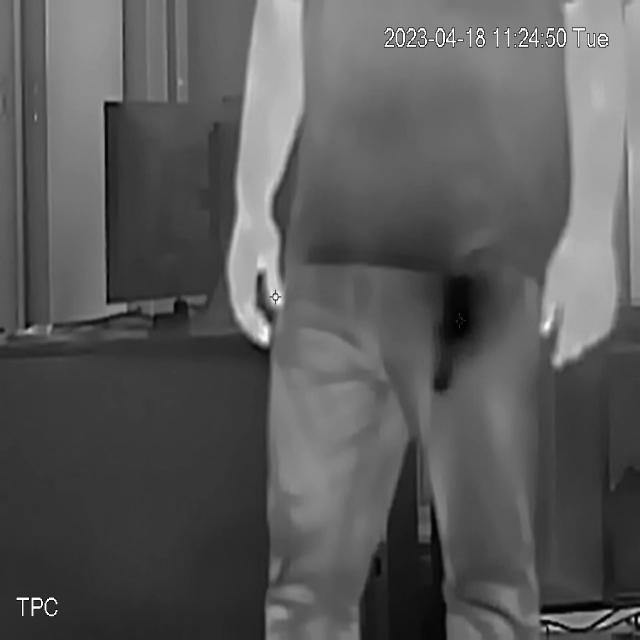Weapon: (417, 230, 495, 408)
